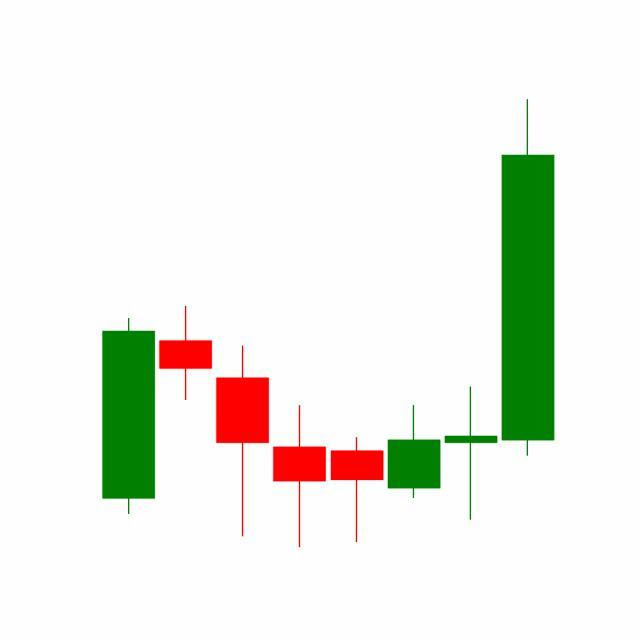Three Outside Up-Down: (328, 385, 500, 544)
